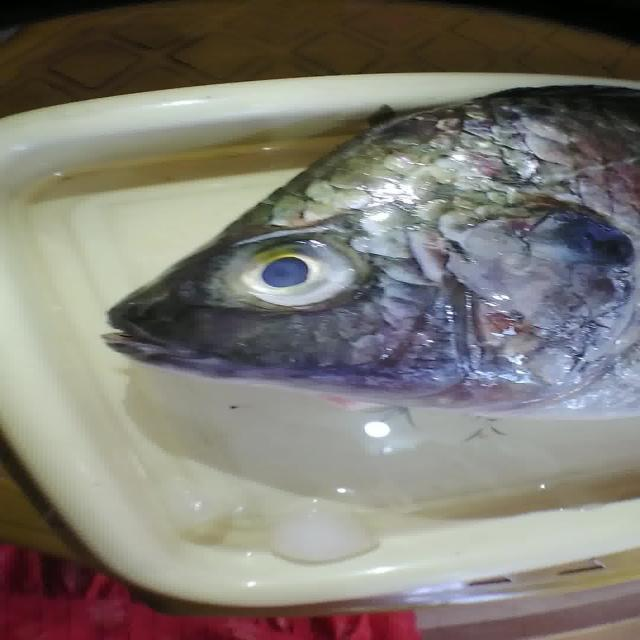Fresh: (211, 219, 391, 315)
